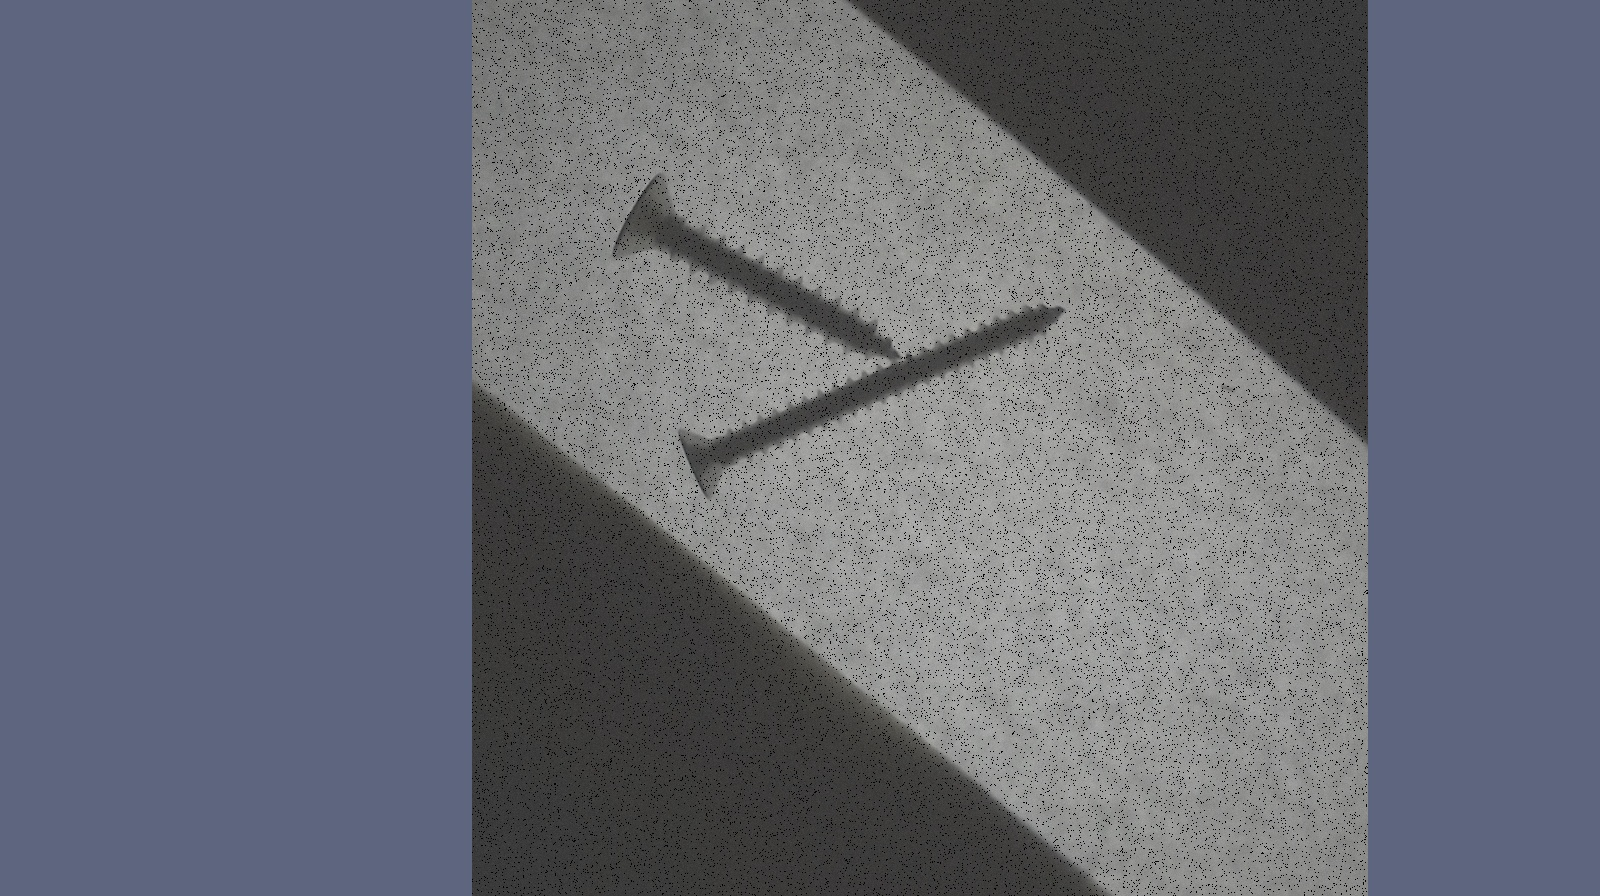S001: (609, 172, 903, 361)
S002: (678, 305, 1069, 495)
